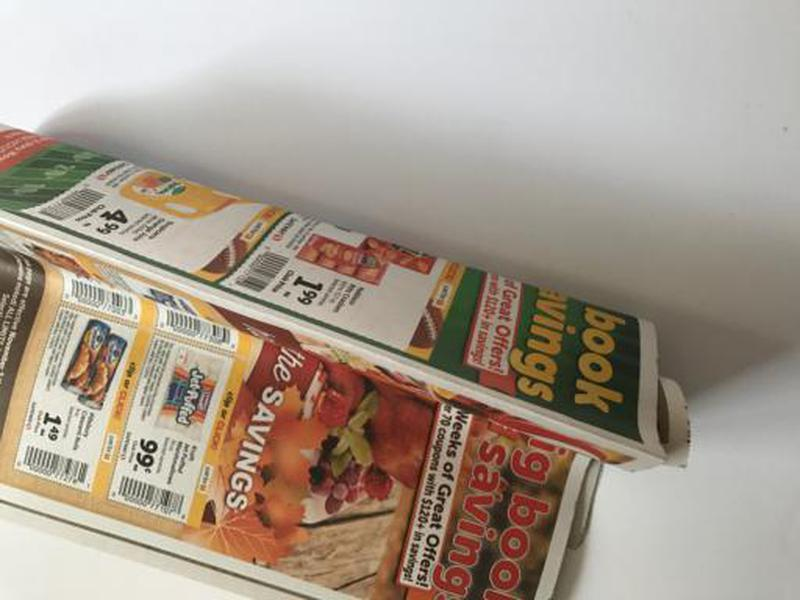paper: (1, 114, 698, 600)
